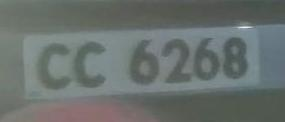2: (159, 33, 194, 91)
6: (126, 31, 161, 90), (188, 32, 224, 88)
8: (218, 30, 256, 87)
C: (37, 37, 74, 94), (72, 37, 111, 91)
